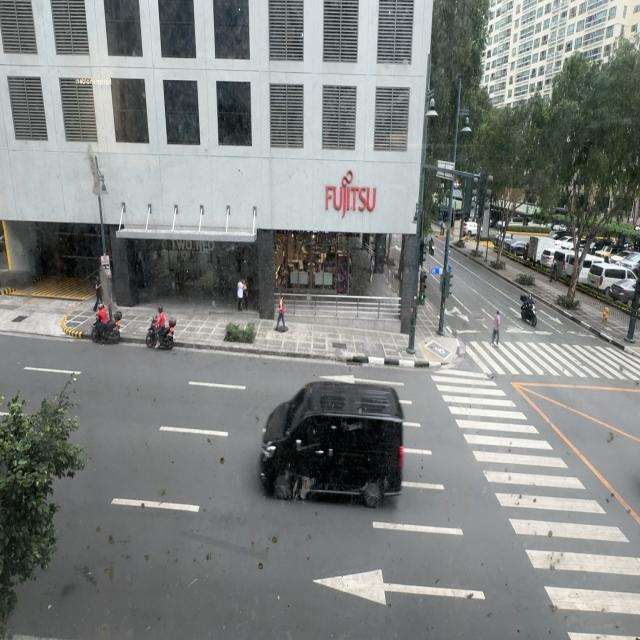crossing: (492, 310, 501, 345)
